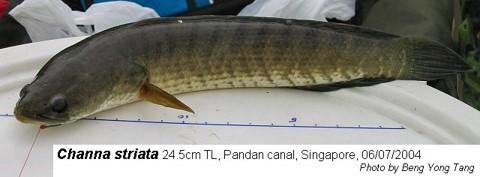Mudfish: (11, 13, 472, 128)
